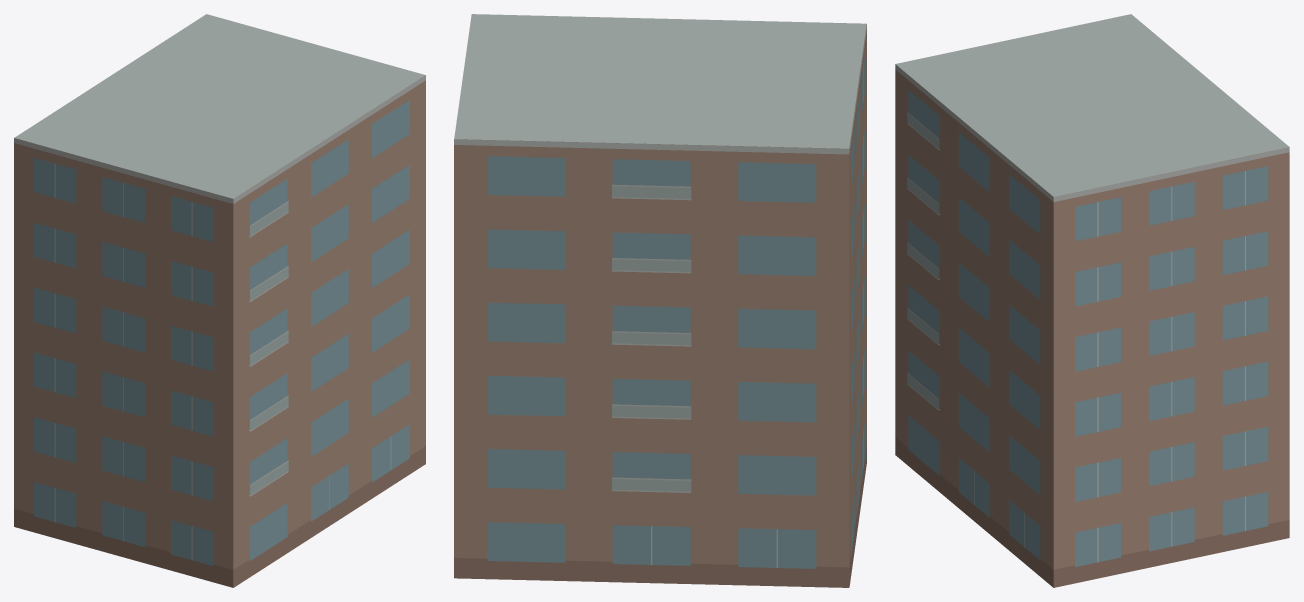
The model's file is survey-upis-32746350.glb.
3 views of the same model, side by side, from view 1: azimuth 30°, elevation 25°; view 2: azimuth 150°, elevation 25°; view 3: azimuth 270°, elevation 25° (orthographic). The views are drawn at different scales.
Visible parts, largest first — view 1: survey-upis-32746350.tmp; view 2: survey-upis-32746350.tmp; view 3: survey-upis-32746350.tmp.
Boxes of the visible parts, x1,y1,x2,y2 form: survey-upis-32746350.tmp: [14, 14, 425, 587]; survey-upis-32746350.tmp: [454, 14, 866, 587]; survey-upis-32746350.tmp: [895, 14, 1289, 587].
Bounding box in the file's own units: 18.58 × 18.5 × 16.93.
